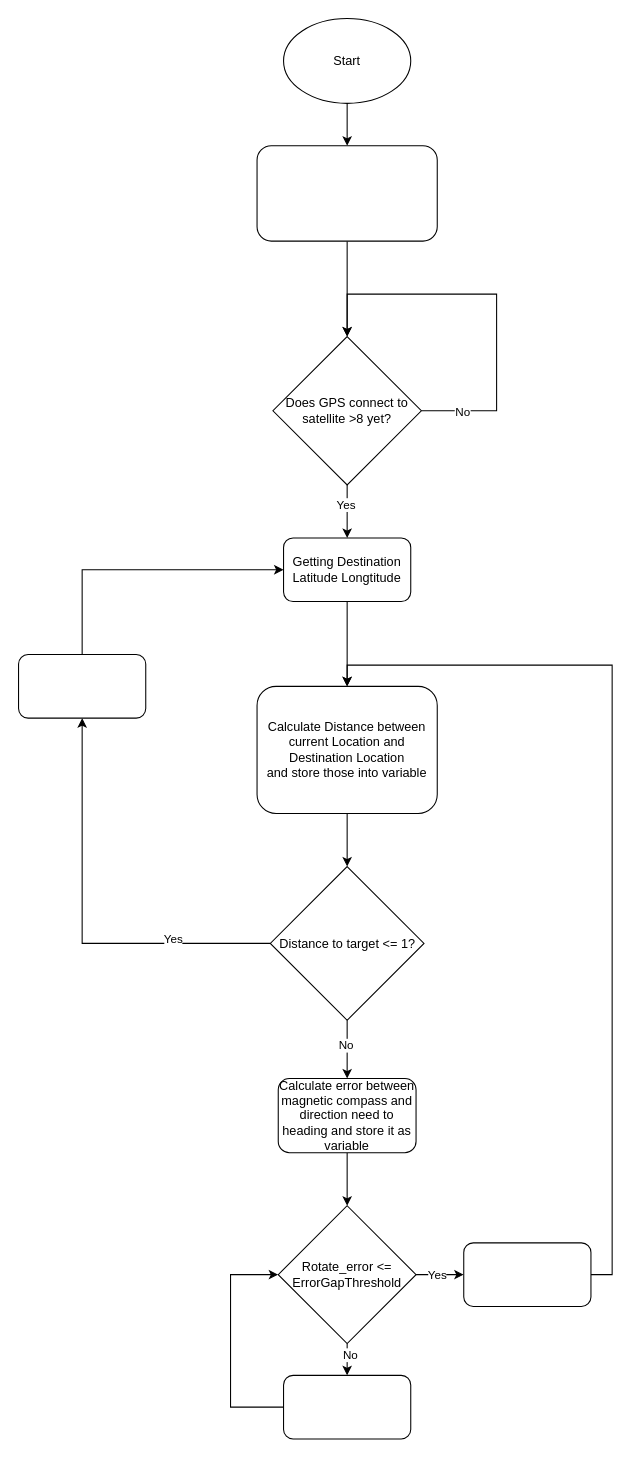
The diagram is 639 pixels wide and 1457 high, and some of its shapes have lost their labels. The shapes that lost their labels are listed below. From the top down, each one's centre as x and y in pixels, then its label:
pixel 346 193: Start initialize Magnetic compass, GPS, NRF24l01
pixel 81 685: Wait for New destination Lattidue Longtitude information
pixel 527 1274: Walk Forward
pixel 346 1406: Rotate to error Direction
